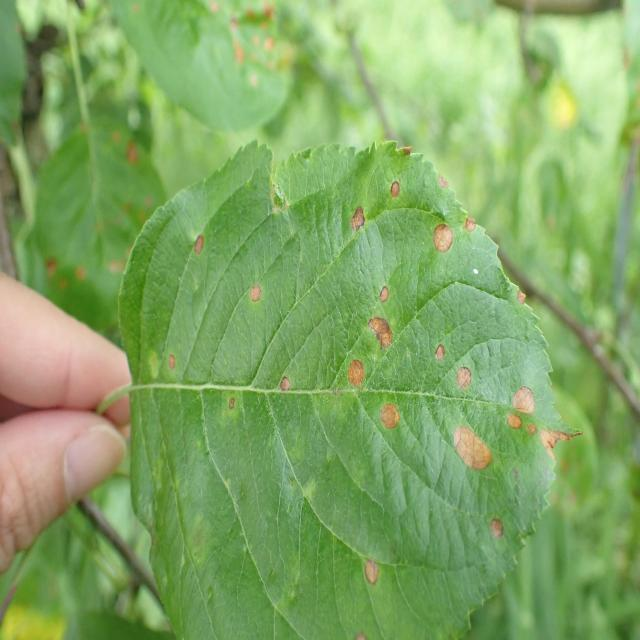Black Rot: (446, 408, 498, 494), (500, 413, 576, 468), (332, 347, 374, 401), (351, 548, 393, 601), (422, 211, 458, 270), (478, 504, 523, 550), (364, 312, 396, 367), (501, 276, 537, 321), (188, 211, 214, 270), (341, 189, 367, 246), (241, 266, 264, 327), (424, 326, 450, 377), (160, 338, 183, 387), (376, 401, 401, 443), (222, 386, 247, 427), (448, 362, 478, 396), (385, 175, 408, 218), (371, 271, 399, 304), (431, 156, 452, 198), (511, 387, 538, 418), (464, 213, 485, 250), (275, 367, 291, 399)
